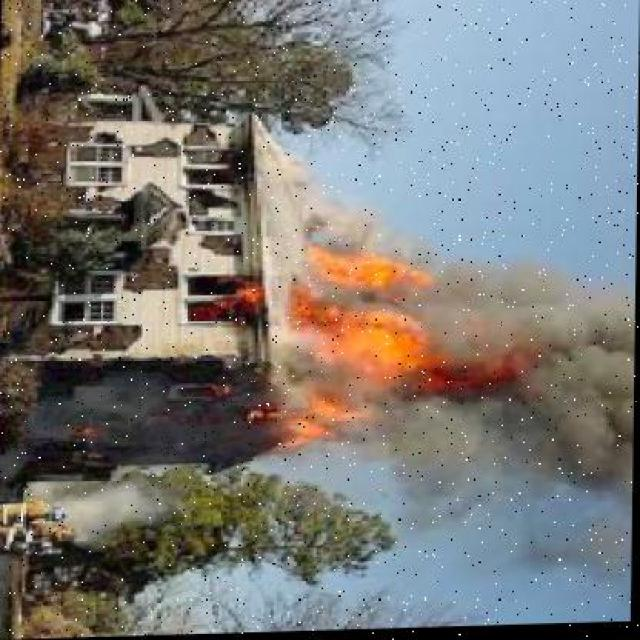fire: (276, 244, 455, 467)
